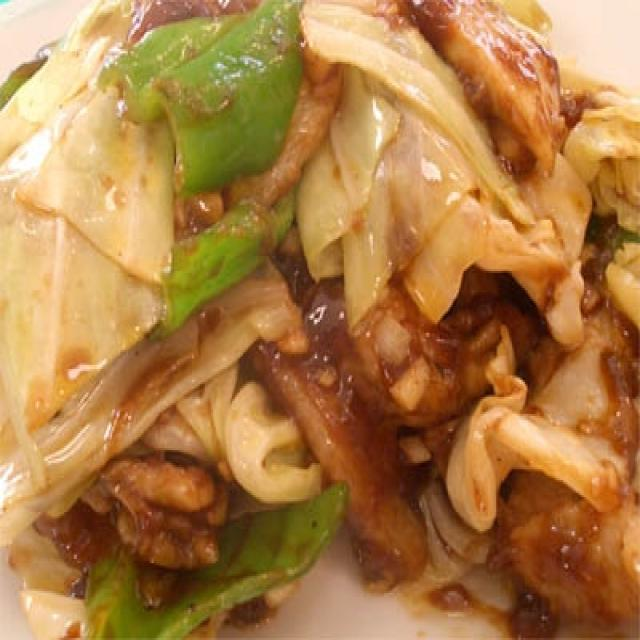猪肉菜式: (3, 4, 635, 623)
